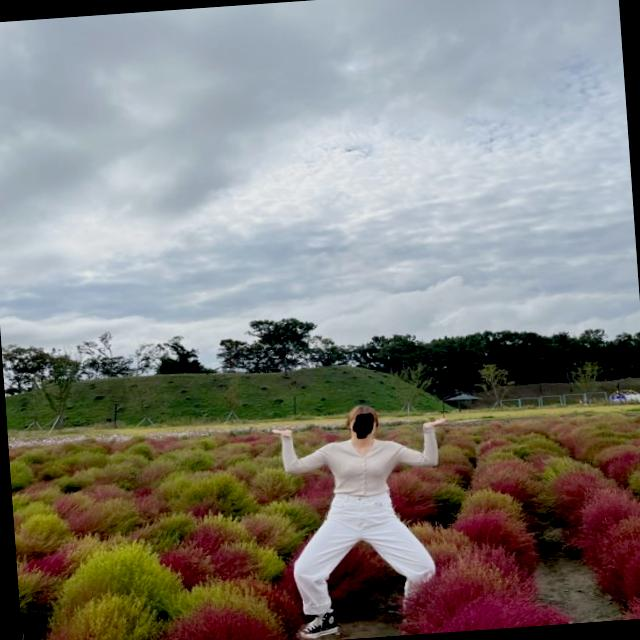cardigan: (278, 422, 441, 498)
cottonpants: (288, 480, 434, 617)
